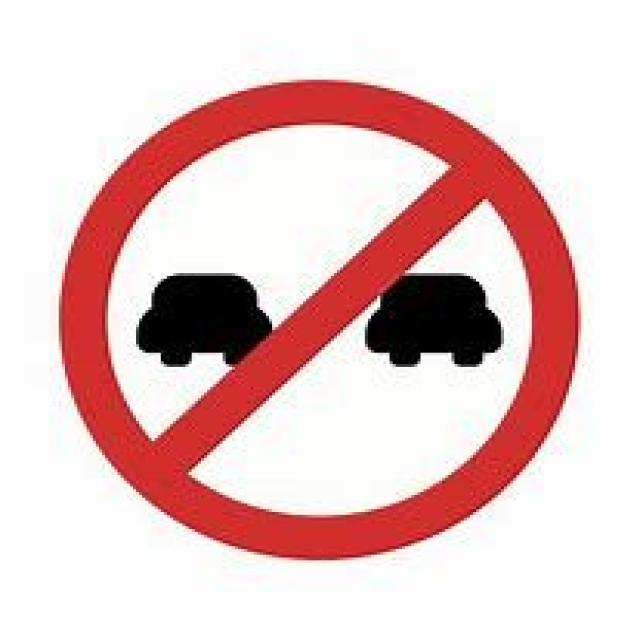OVERTAKING_PROHIBITED: (59, 75, 580, 567)
